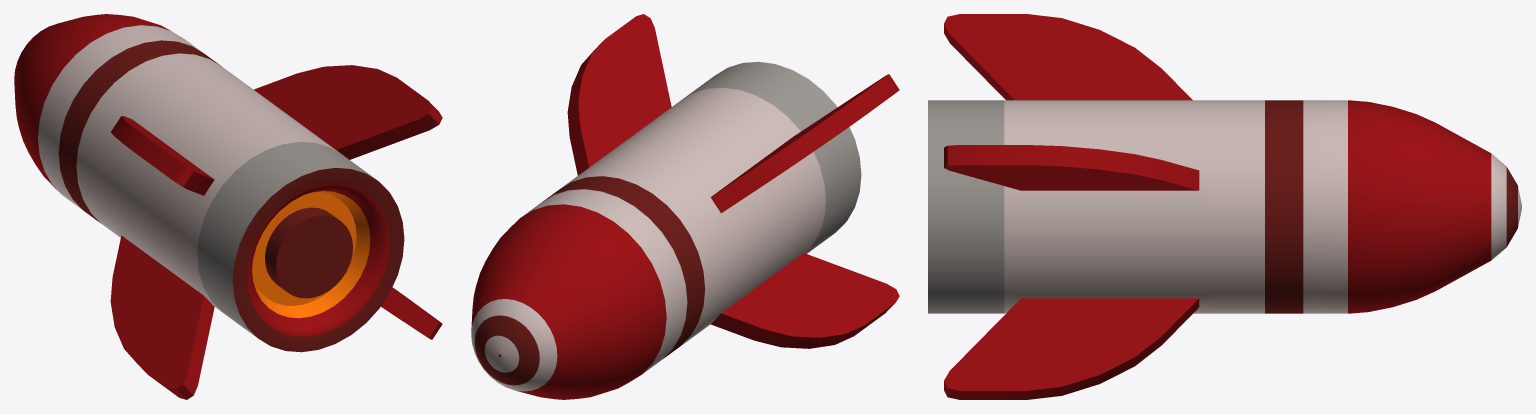
The model's file is zda.fbx.
The picture shows the model from 3 angles, left to right: view 1: azimuth 30°, elevation 25°; view 2: azimuth 150°, elevation 25°; view 3: azimuth 270°, elevation 25°; orthographic projection. The views are drawn at different scales.
Parts seen in each view (by area): view 1: Cylinder; view 2: Cylinder; view 3: Cylinder.
Boxes of the visible parts, bbox=[...] form: Cylinder: bbox=[14, 14, 442, 399]; Cylinder: bbox=[471, 14, 899, 399]; Cylinder: bbox=[928, 14, 1521, 399].
Bounding box in the file's own units: 315 × 263 × 556.
